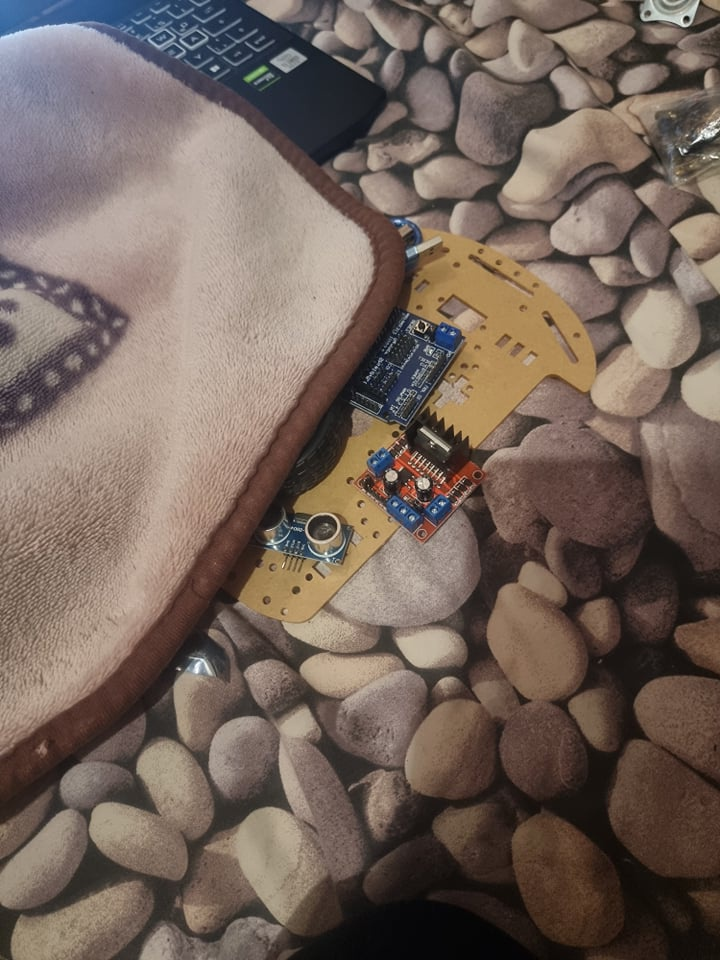5V EXPANSION: (341, 307, 465, 426)
MOTOR: (360, 414, 488, 544)
SENSOR: (260, 505, 347, 565)
